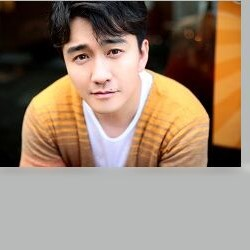unmask: (59, 25, 142, 114)
